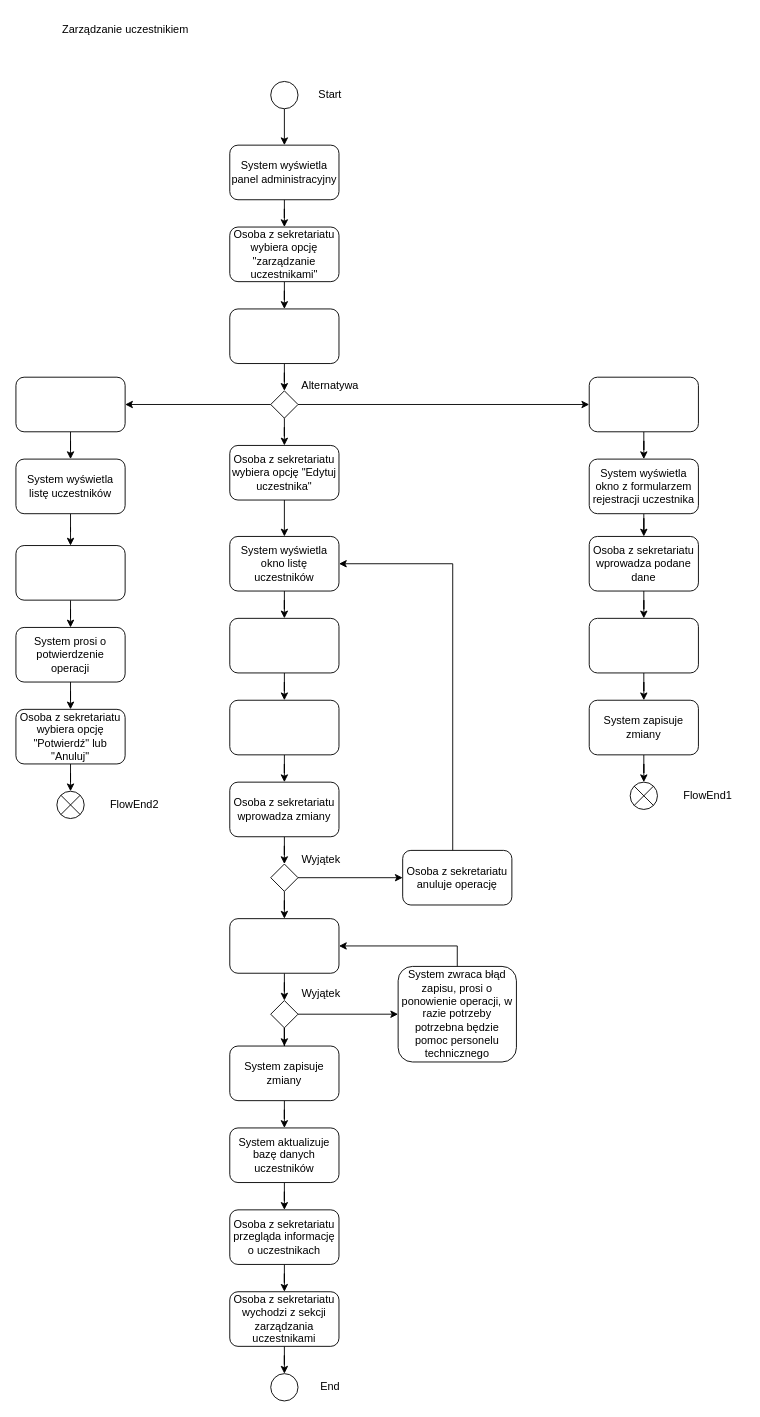
This 760x1417 diagram has some shape labels left out. Each missing label, with the centre of its shape:
Następnie je zatwierdza: pixel 643 645
Osoba z sekretariatu wybiera danego uczestnika: pixel 284 645
Osoba z sekretariatu wybiera opcję "Dodaj uczestnika": pixel 643 404
Osoba z sekretariatu wybiera opcję "Usuń uczestnika": pixel 70 404
Osoba z sekretariatu wybiera opcję "Usuń" przy danym uczestniku: pixel 70 572
Osoba z sekretariatu zatwierdza zmiany: pixel 284 945
System wyświetla okno z danymi uczestnika: pixel 284 727
System wyświetla okno zarządzania uczestnikami: pixel 284 336
